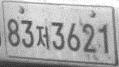1: (97, 23, 110, 54)
2: (81, 22, 97, 53)
3: (20, 19, 35, 47), (50, 21, 65, 49)
6: (66, 22, 81, 51)
8: (6, 17, 20, 47)
저: (35, 25, 49, 50)
